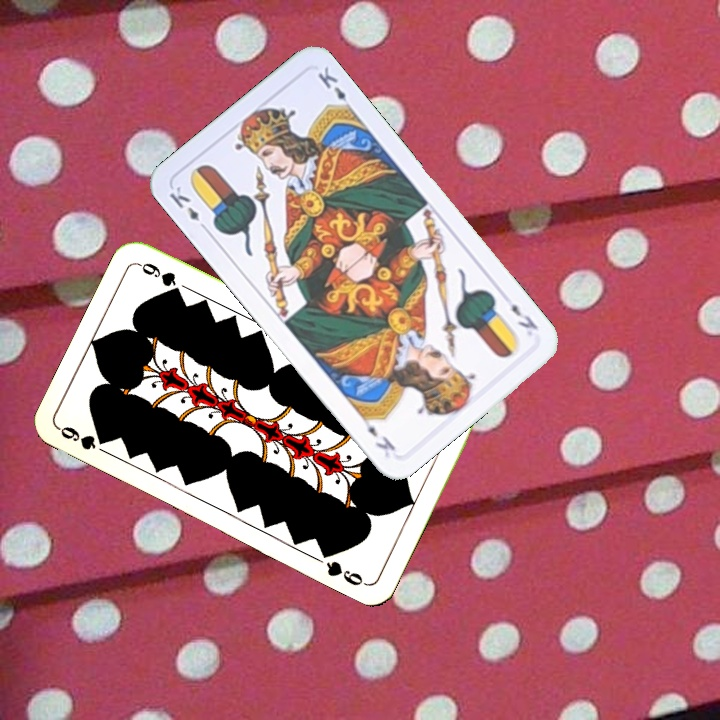EK: (164, 182, 211, 234), (506, 299, 541, 333)
G9: (55, 422, 109, 453)
